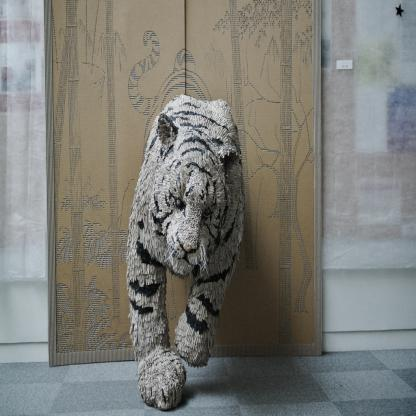Tiger: (126, 101, 246, 399)
